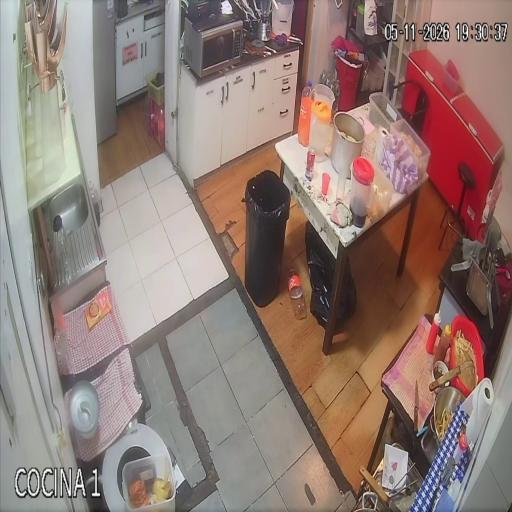Basurero: (245, 170, 290, 307)
Cuchillo1: (414, 380, 419, 435)
Envase Ketchup: (426, 313, 441, 354)
Envase Llajua: (434, 325, 451, 362)
Jarra1: (350, 157, 374, 227)
Jarra2: (308, 98, 331, 163)
Jarra3: (314, 83, 334, 116)
JarraLicuadora: (53, 215, 71, 283)
Microondas: (184, 17, 242, 76)
Tapa de olla: (68, 381, 100, 439)
Taper: (122, 454, 175, 512)
Taper2: (369, 92, 402, 130)
Taper3: (390, 119, 430, 177)
Vaso1: (322, 173, 330, 196)
olla1: (330, 112, 365, 179)
